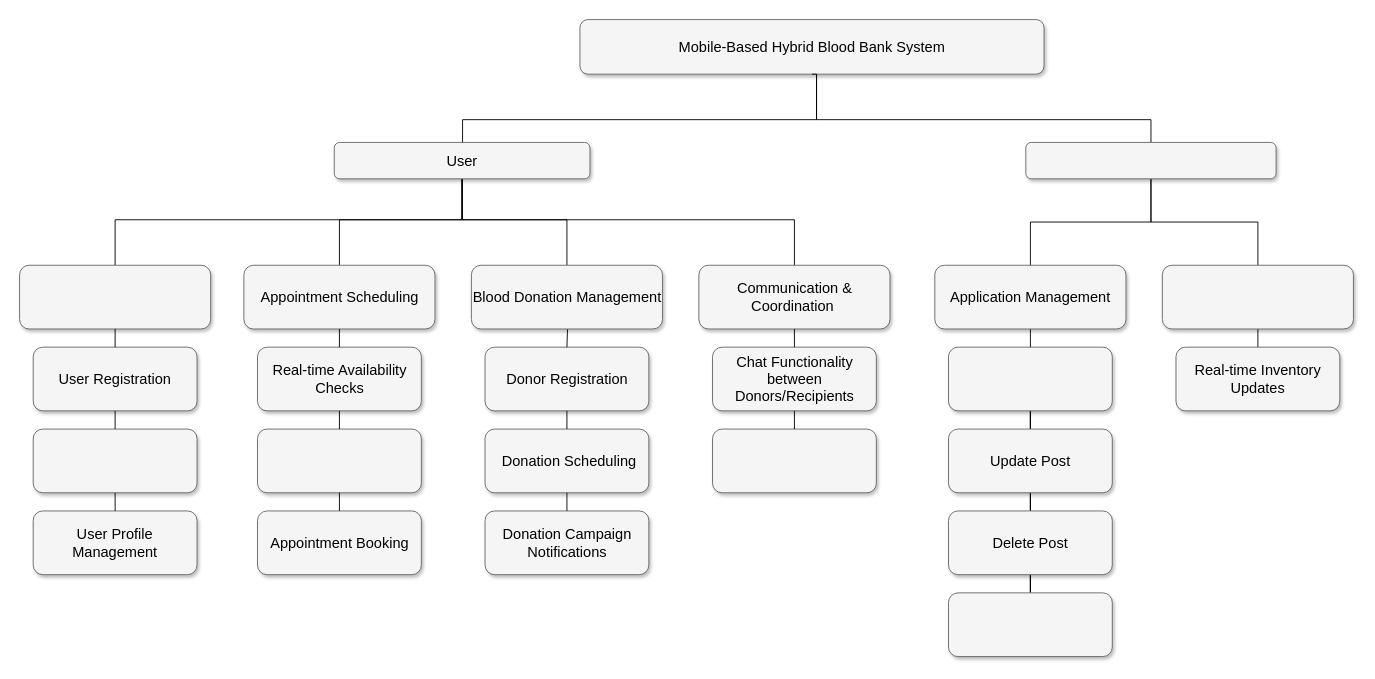
This 1375x679 diagram has some shape labels left out. The centre of each missing label's shape, as x and y in pixels:
Automated Reminders: point (340, 462)
Create post: point (1031, 380)
Inventory Management: point (1258, 298)
Notification of Urgent Supply Needs: point (795, 462)
Staff: point (1151, 161)
User Login/Authenticate: point (115, 462)
User Management: point (115, 298)
View Post: point (1031, 625)
